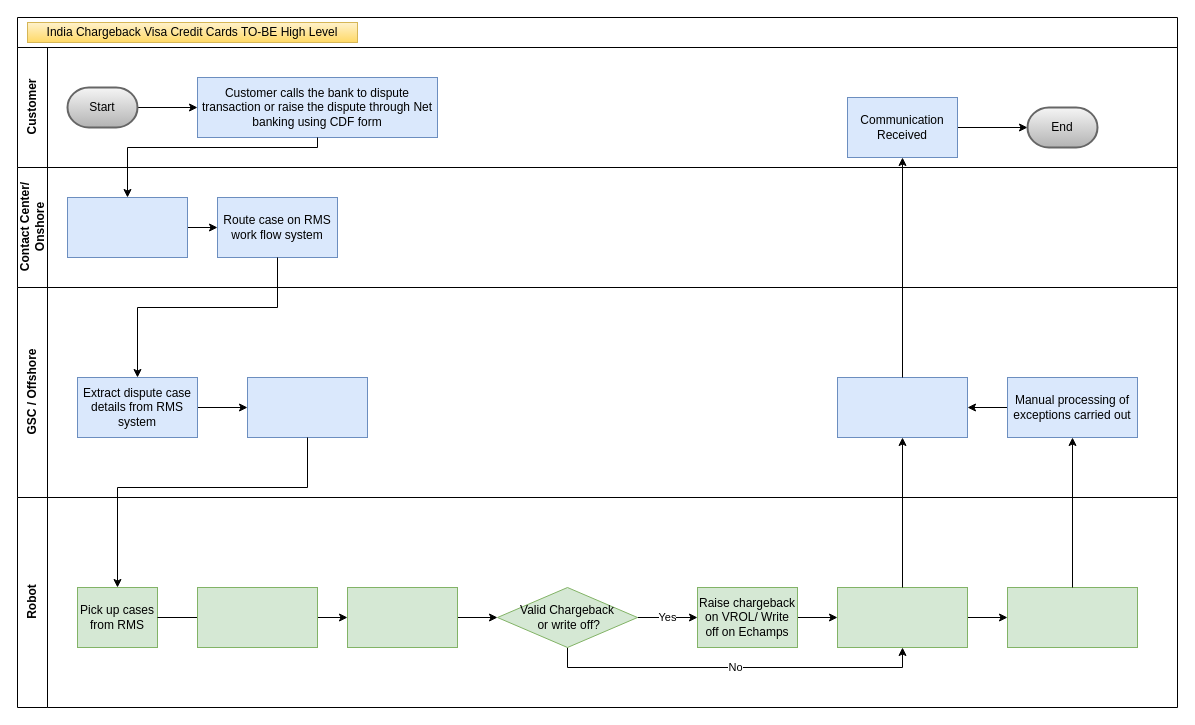
Some shapes in this 1195 by 725 pixel diagram are drawn without their labels. The centre of each missing label's shape, as x and y in pixels:
Checkers validate and send final communication to customer: [902,407]
Conduct Pre checks and validate card information on Echamps and VROL: [257,617]
Contact center update case information in Smart Form: [127,227]
Identify reason code and validate chargeback: [402,617]
Output sheet along with Exceptions and send to analyst for manual processing: [1072,617]
Prepare Ack letter through KANA, Outlook and route to checker queue: [902,617]
Prepare Input sheet for Robot and save into restricted shared folder: [307,407]
